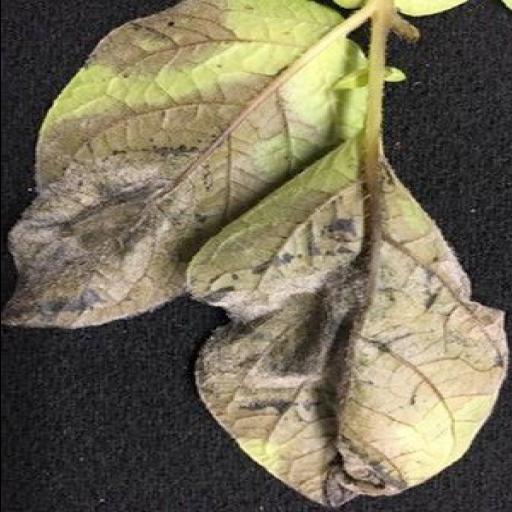Late Blight: (2, 1, 392, 334), (178, 142, 508, 508)
